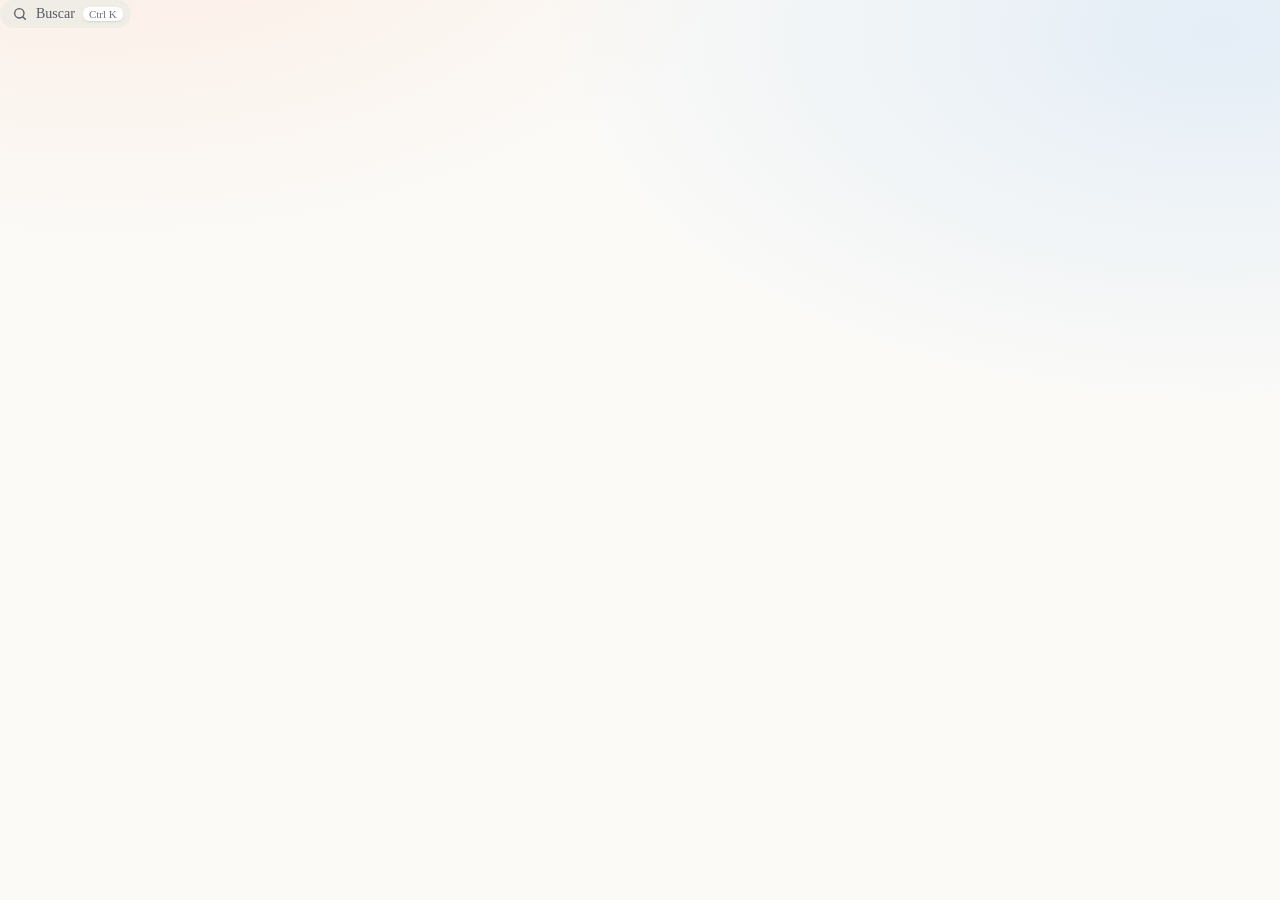
Test: SearchCommand › says so when nothing matches
Click the button "Buscar Ctrl K". click: [65, 14]
box: [0,0,131,28]
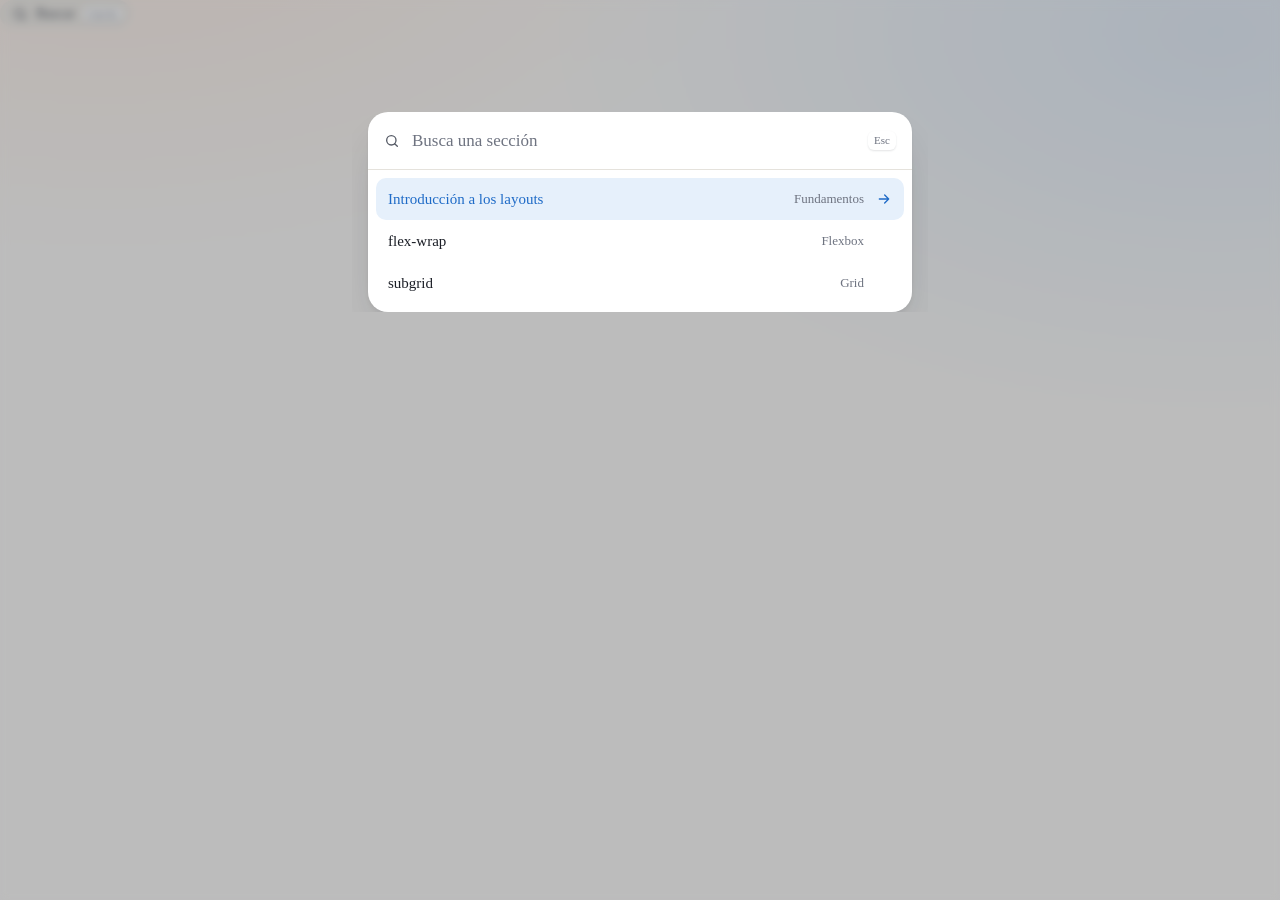
Type "zzz" into the dropdown. click: [634, 141]
box: [410,126,858,155]
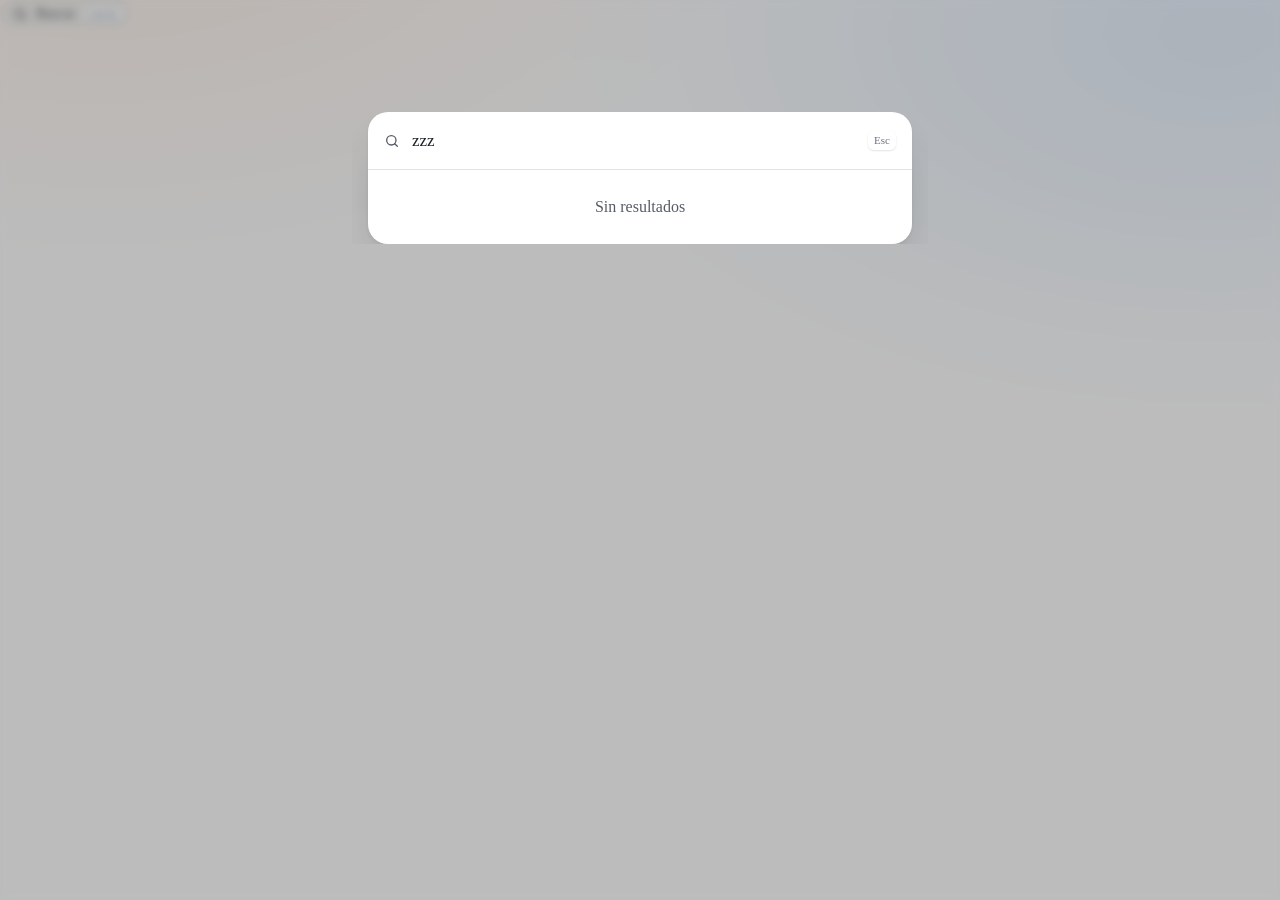
Expected: no options are shown
Expected: the text "Sin resultados" is shown, [595,198,685,215]
// Arrows do nothing without results.
Press ArrowDown in the dropdown, box [410,126,858,155]
Expected: the dropdown does not have attribute aria-activedescendant, [410,126,858,155]
